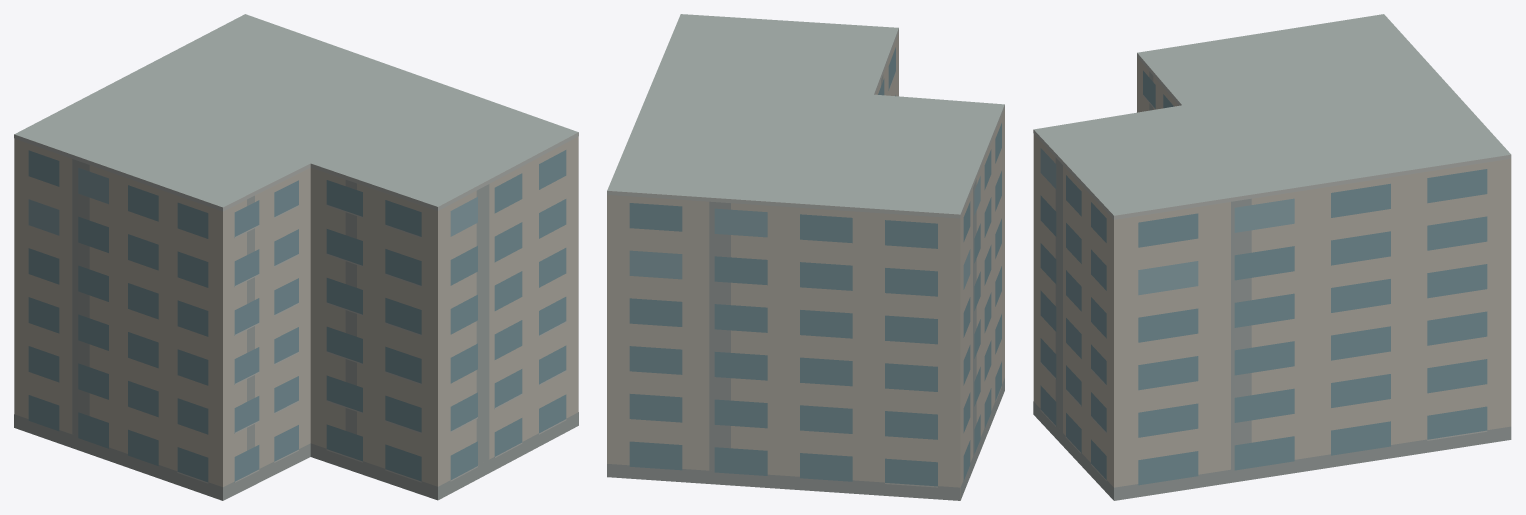
Rendered from survey-upis-32862760.glb.
3 views of the same model, side by side, from view 1: azimuth 30°, elevation 25°; view 2: azimuth 150°, elevation 25°; view 3: azimuth 270°, elevation 25° (orthographic). The views are drawn at different scales.
Visible parts, largest first — view 1: survey-upis-32862760.tmp; view 2: survey-upis-32862760.tmp; view 3: survey-upis-32862760.tmp.
Part boxes in pixels (x1,y1,x2,y2): survey-upis-32862760.tmp: (14, 14, 578, 500); survey-upis-32862760.tmp: (607, 14, 1004, 500); survey-upis-32862760.tmp: (1033, 14, 1511, 500).
Size of the model in its own units: 26.19 by 17.25 by 26.21.
